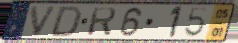1: (168, 5, 185, 40)
5: (183, 7, 210, 39)
6: (119, 6, 145, 38)
D: (48, 5, 84, 38)
R: (85, 7, 118, 38)
V: (30, 5, 60, 38)
